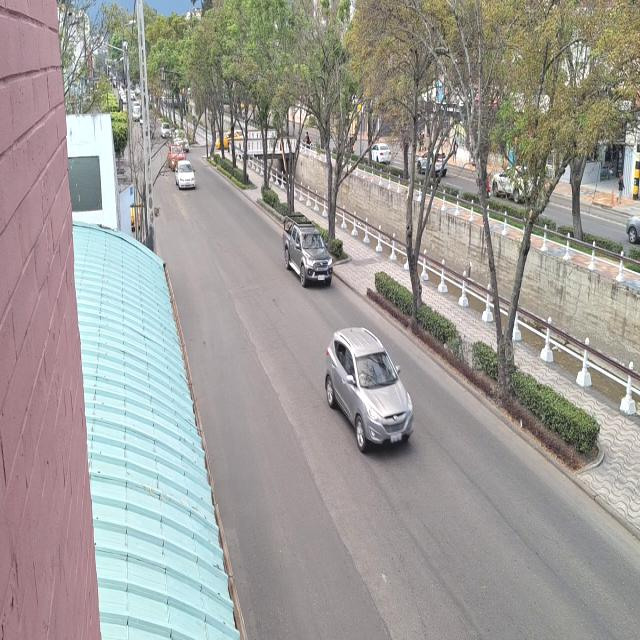CMT: (282, 219, 331, 289)
SED: (174, 159, 197, 191)
SUV: (324, 330, 413, 450)
